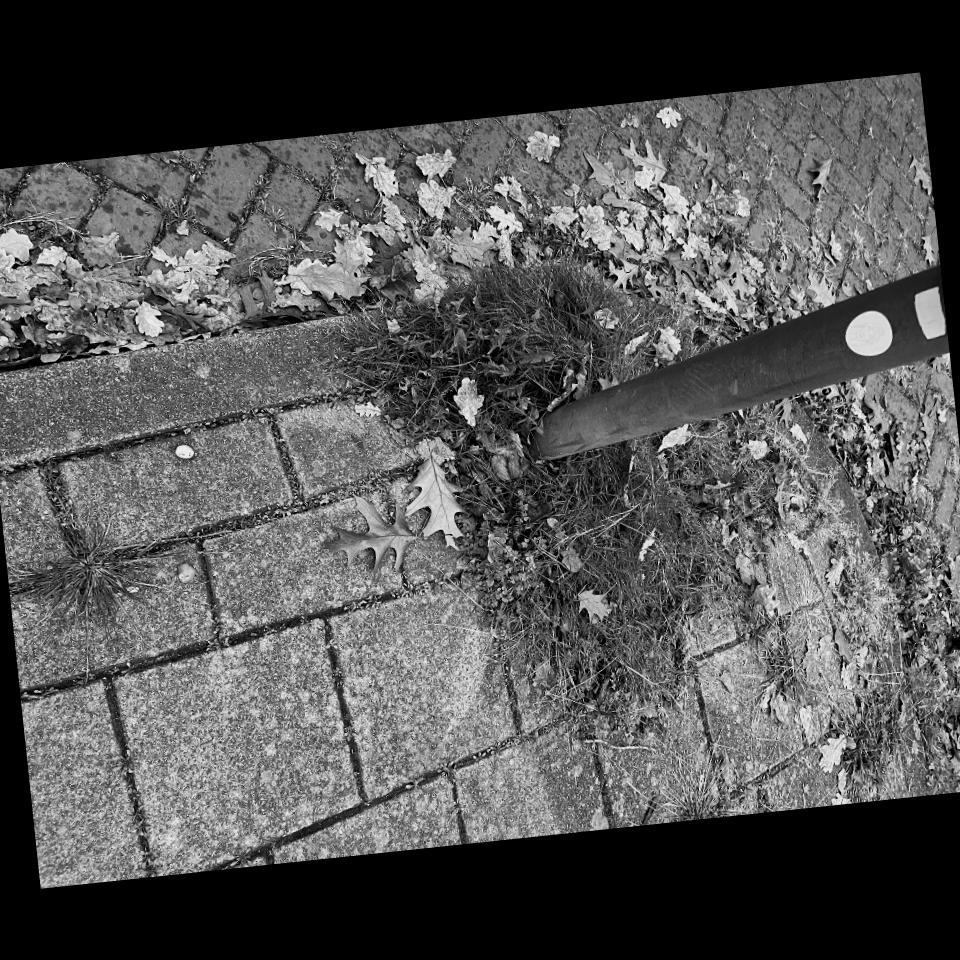weed: (394, 246, 864, 723), (546, 282, 863, 617)
